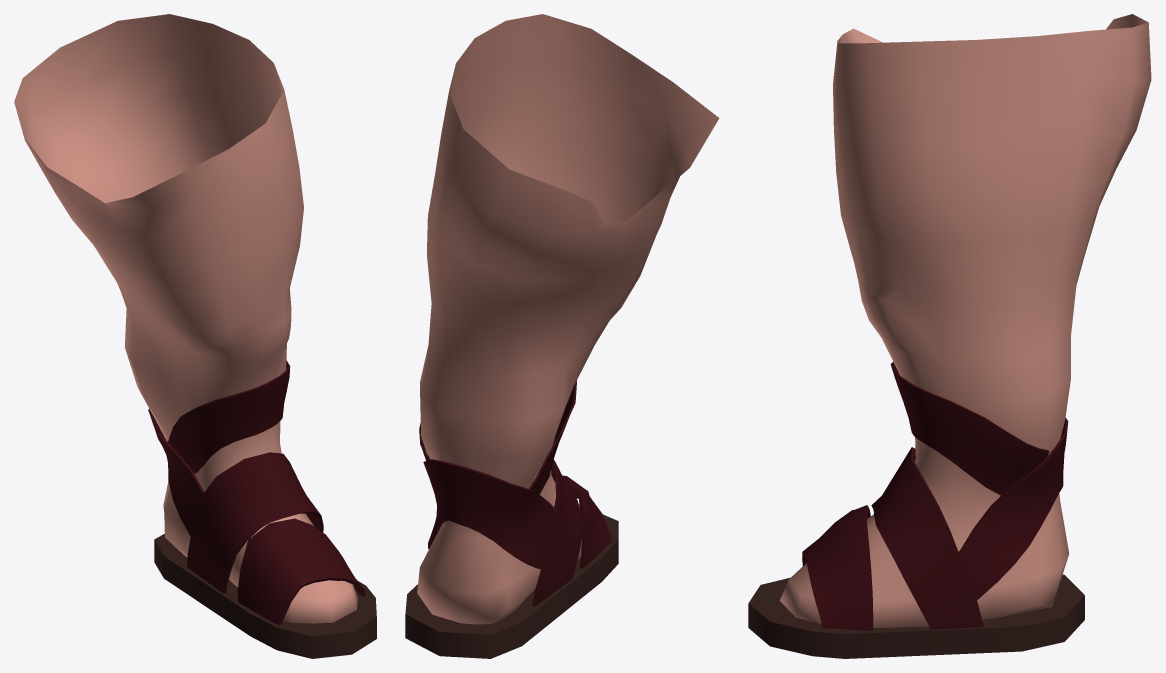
File: big_enemy_leg_l.fbx
The picture shows the model from 3 angles, left to right: view 1: azimuth 30°, elevation 25°; view 2: azimuth 150°, elevation 25°; view 3: azimuth 270°, elevation 25°; orthographic projection. The views are drawn at different scales.
Parts seen in each view (by area): view 1: body.004, sandal_stripe_03, sandals, sandal_stripe_04, sandal_stripe_01, sandal_stripe_02; view 2: body.004, sandal_stripe_02, sandals, sandal_stripe_03, sandal_stripe_04, sandal_stripe_01; view 3: body.004, sandals, sandal_stripe_03, sandal_stripe_01, sandal_stripe_02, sandal_stripe_04.
Part boxes in pixels (x1,y1,x2,y2): body.004: (14, 14, 357, 623); sandal_stripe_03: (187, 452, 323, 593); sandals: (154, 533, 376, 658); sandal_stripe_04: (237, 518, 365, 624); sandal_stripe_01: (167, 360, 290, 473); sandal_stripe_02: (148, 409, 204, 536); body.004: (417, 14, 719, 624); sandal_stripe_02: (423, 459, 553, 569); sandals: (405, 514, 618, 658); sandal_stripe_03: (532, 459, 583, 606); sandal_stripe_04: (562, 475, 611, 568); sandal_stripe_01: (419, 380, 576, 494); body.004: (780, 14, 1151, 627); sandals: (748, 574, 1084, 658); sandal_stripe_03: (871, 447, 983, 629); sandal_stripe_01: (890, 362, 1049, 495); sandal_stripe_02: (958, 418, 1068, 599); sandal_stripe_04: (802, 505, 873, 630).
Bounding box in the file's own units: 72.54 × 163 × 101.
